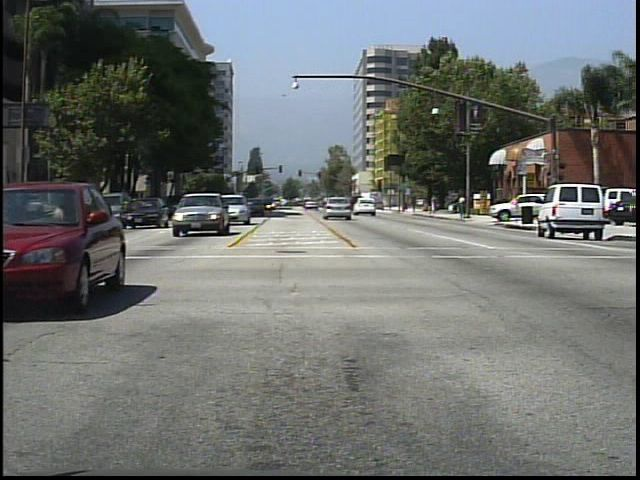person: (454, 189, 469, 221), (430, 191, 441, 215)
